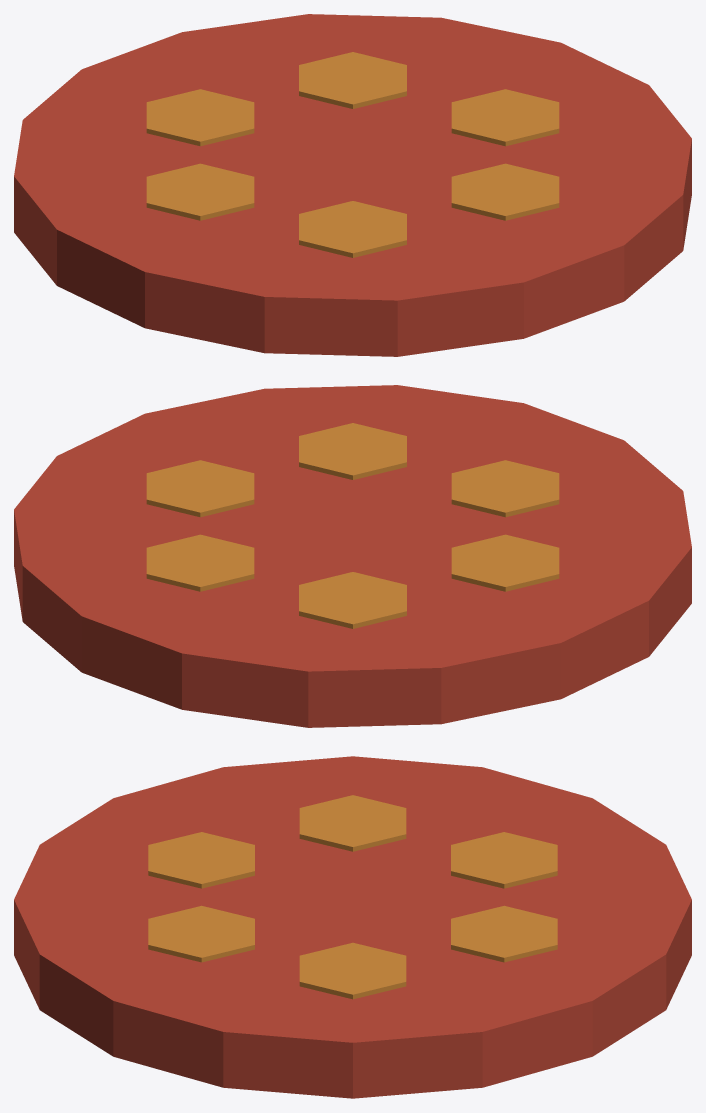
The model's file is TomatoSlice.glb.
The picture shows the model from 3 angles, top to bottom: view 1: azimuth 30°, elevation 25°; view 2: azimuth 150°, elevation 25°; view 3: azimuth 270°, elevation 25°; orthographic projection.
Parts seen in each view (by area): view 1: TomatoSlice; view 2: TomatoSlice; view 3: TomatoSlice.
Part boxes in pixels (left/top/right/bottom): TomatoSlice: left=14, top=14, right=691, bottom=356; TomatoSlice: left=14, top=385, right=691, bottom=727; TomatoSlice: left=14, top=756, right=691, bottom=1098.
Bounding box in the file's own units: 0.132 × 0.013 × 0.132.
